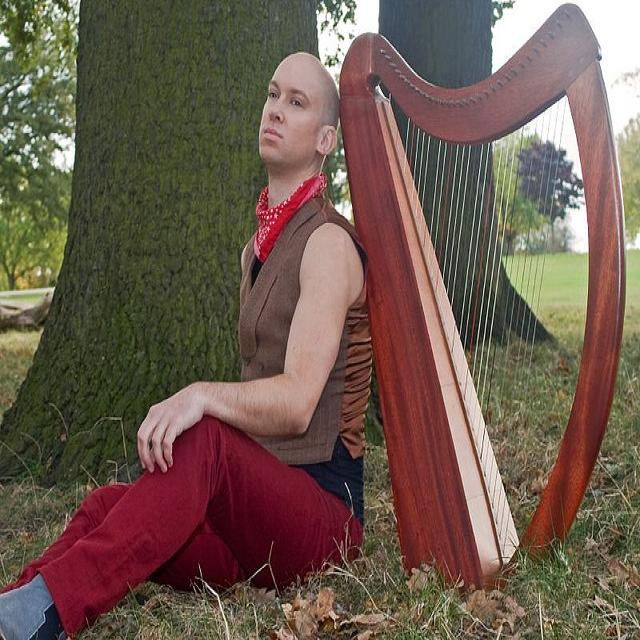harp: (333, 3, 626, 593)
